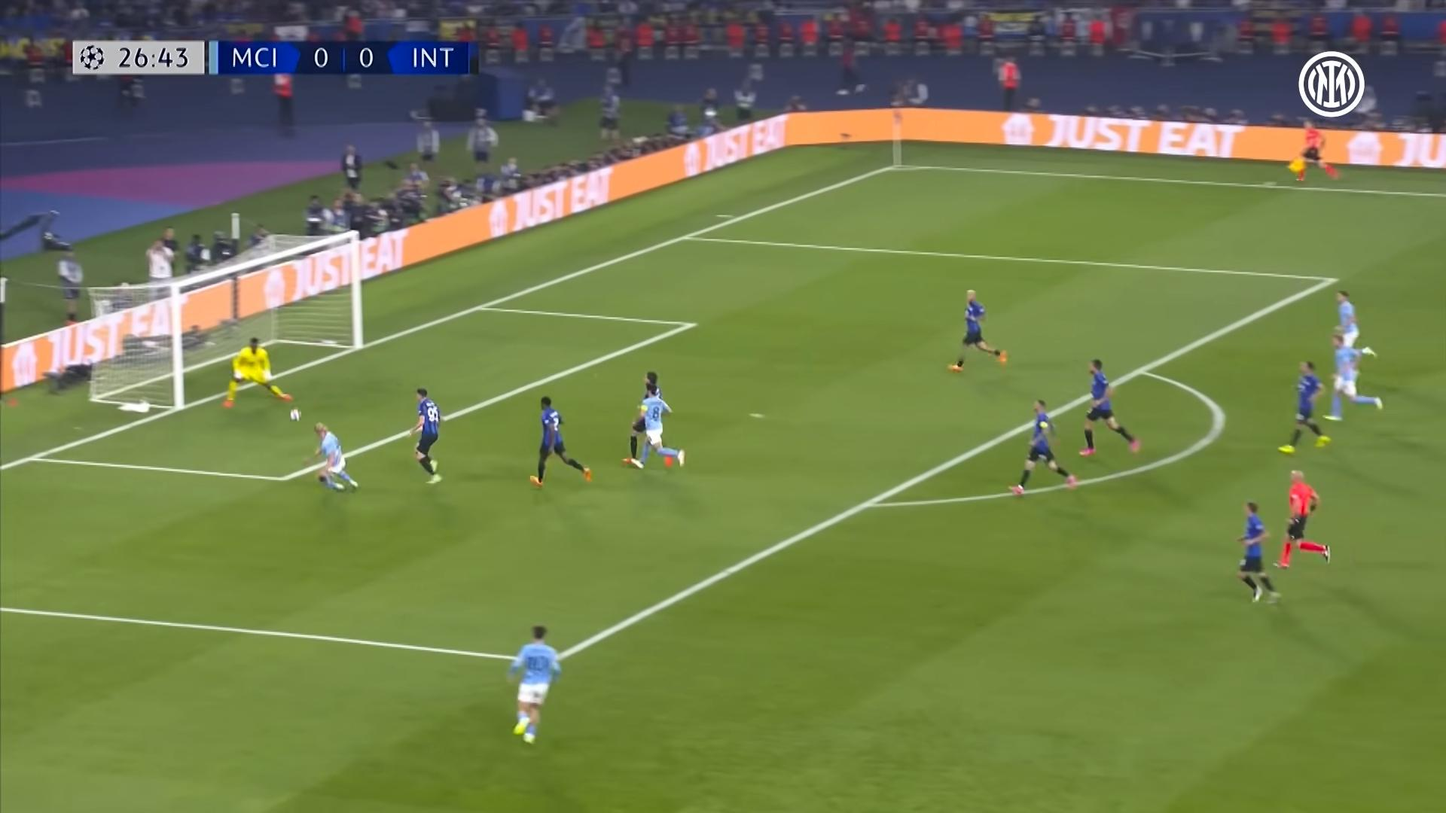Goalkeeper: (223, 336, 294, 409)
Player: (1008, 401, 1079, 497), (508, 624, 562, 742), (1079, 359, 1141, 457), (528, 395, 593, 488), (949, 288, 1008, 373), (1327, 333, 1384, 419), (1279, 361, 1330, 454), (1237, 502, 1279, 604), (638, 390, 686, 466), (623, 371, 662, 464), (313, 423, 359, 491), (415, 387, 441, 486), (1336, 291, 1358, 347)
ball: (288, 406, 302, 421)
referee: (1279, 469, 1330, 566), (1288, 121, 1339, 183)
